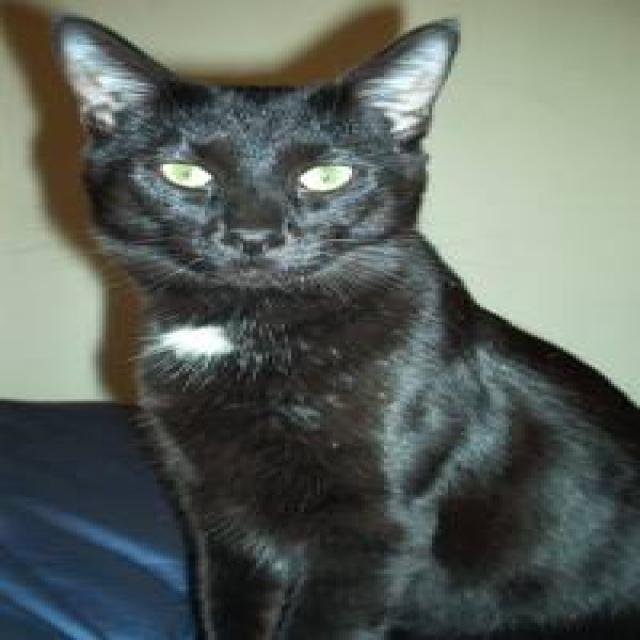Bombay: (53, 15, 469, 303)
